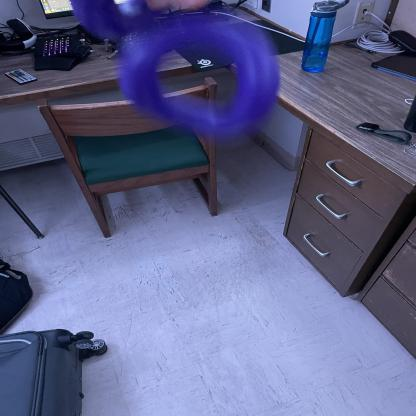ring: (116, 15, 283, 139), (61, 0, 225, 44)
